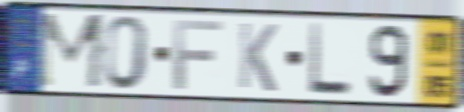0: (103, 13, 151, 93)
9: (368, 22, 411, 100)
F: (171, 18, 225, 93)
K: (236, 19, 280, 95)
L: (306, 20, 353, 98)
M: (36, 11, 109, 92)
